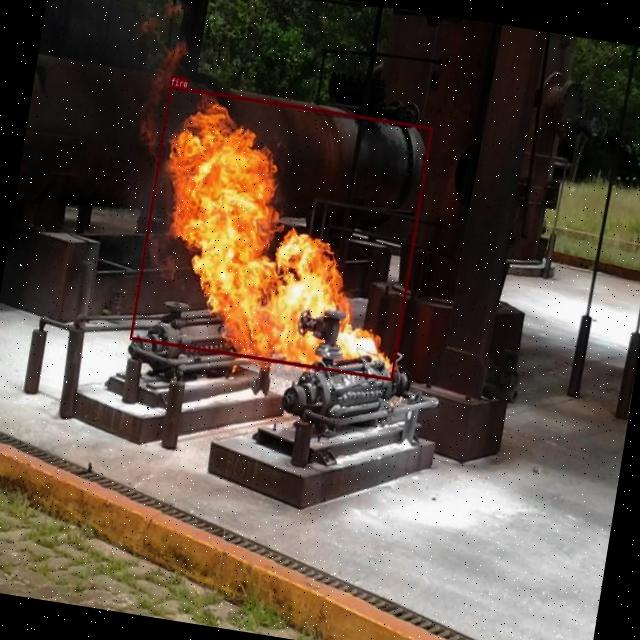fire: (129, 85, 432, 380)
